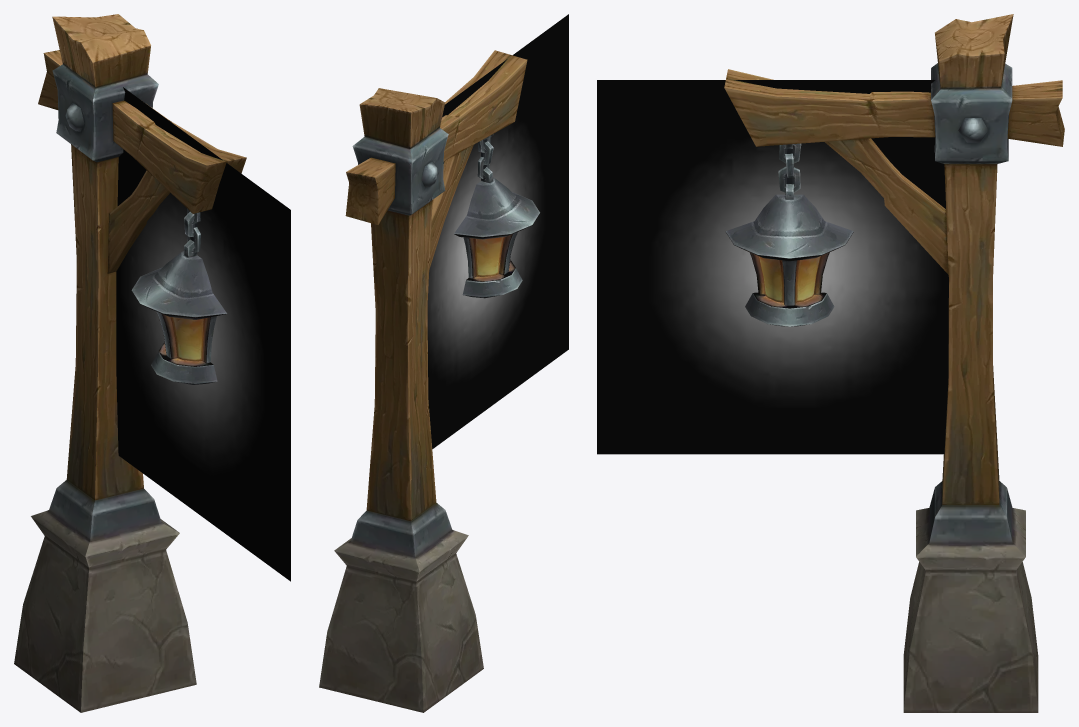
3 views of the same model, side by side, from view 1: azimuth 30°, elevation 25°; view 2: azimuth 150°, elevation 25°; view 3: azimuth 270°, elevation 25° (orthographic). The views are drawn at different scales.
Size of the model in its own units: 1.33 by 7.13 by 4.61.
Materials: 4 (4 with a texture image).
